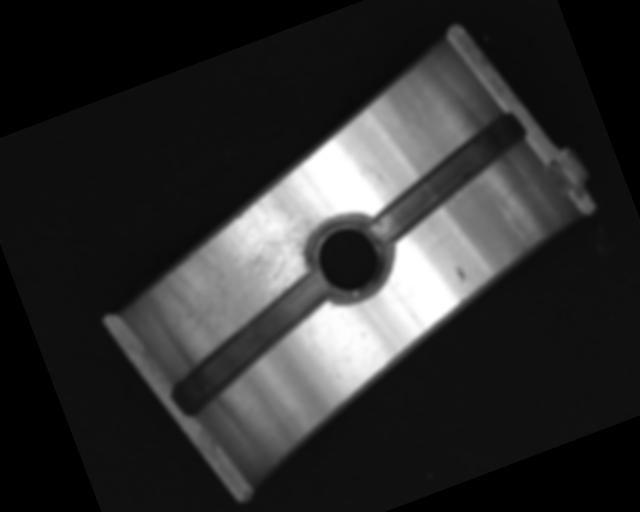bruise: (452, 262, 469, 283)
gap: (151, 271, 351, 420), (349, 108, 544, 245)
hole: (294, 202, 406, 316)
nick: (494, 196, 529, 250), (360, 154, 398, 203)
scratch: (132, 159, 361, 361)
